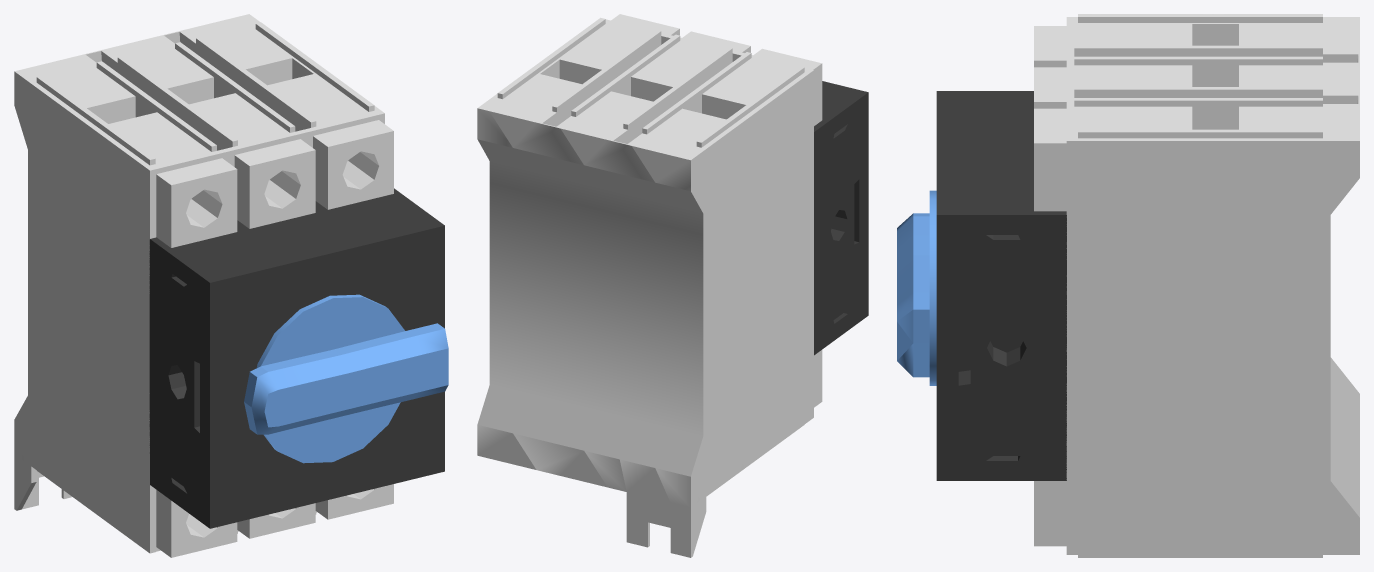
File: Switch2.FBX
3 views of the same model, side by side, from view 1: azimuth 30°, elevation 25°; view 2: azimuth 150°, elevation 25°; view 3: azimuth 270°, elevation 25° (orthographic). The views are drawn at different scales.
Visible parts, largest first — view 1: Switch002; view 2: Switch002; view 3: Switch002.
Boxes of the visible parts, x1,y1,x2,y2 form: Switch002: [14, 14, 448, 557]; Switch002: [477, 14, 868, 557]; Switch002: [897, 14, 1359, 557].
Bounding box in the file's own units: 4.5 × 8.11 × 7.1.
